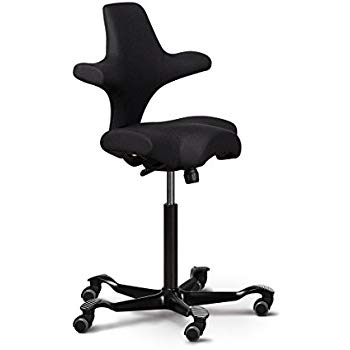chairs: (68, 2, 278, 346)
